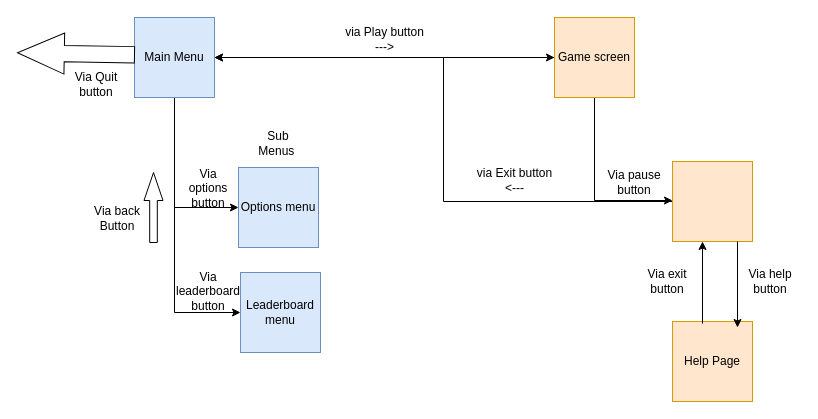
Image size: 818x419. Some labels were removed from this diagram. The shapes that lost their labels are listed below. From the top down, each one's box as (x1, y1, x2, y2) in pixels, then its label:
(16, 31, 135, 75): Exit game
(672, 160, 752, 242): Pause Menu
